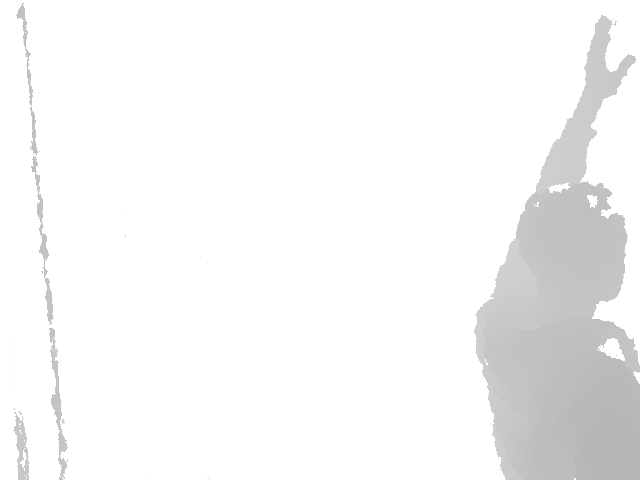hand: (584, 14, 637, 102)
head: (519, 183, 629, 304)
person: (473, 14, 640, 480)
